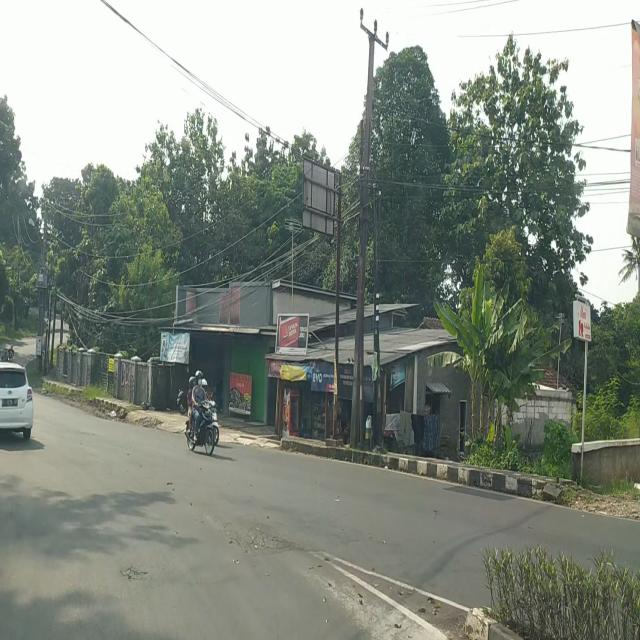Drain Hole: (201, 509, 310, 562), (119, 564, 149, 585)
